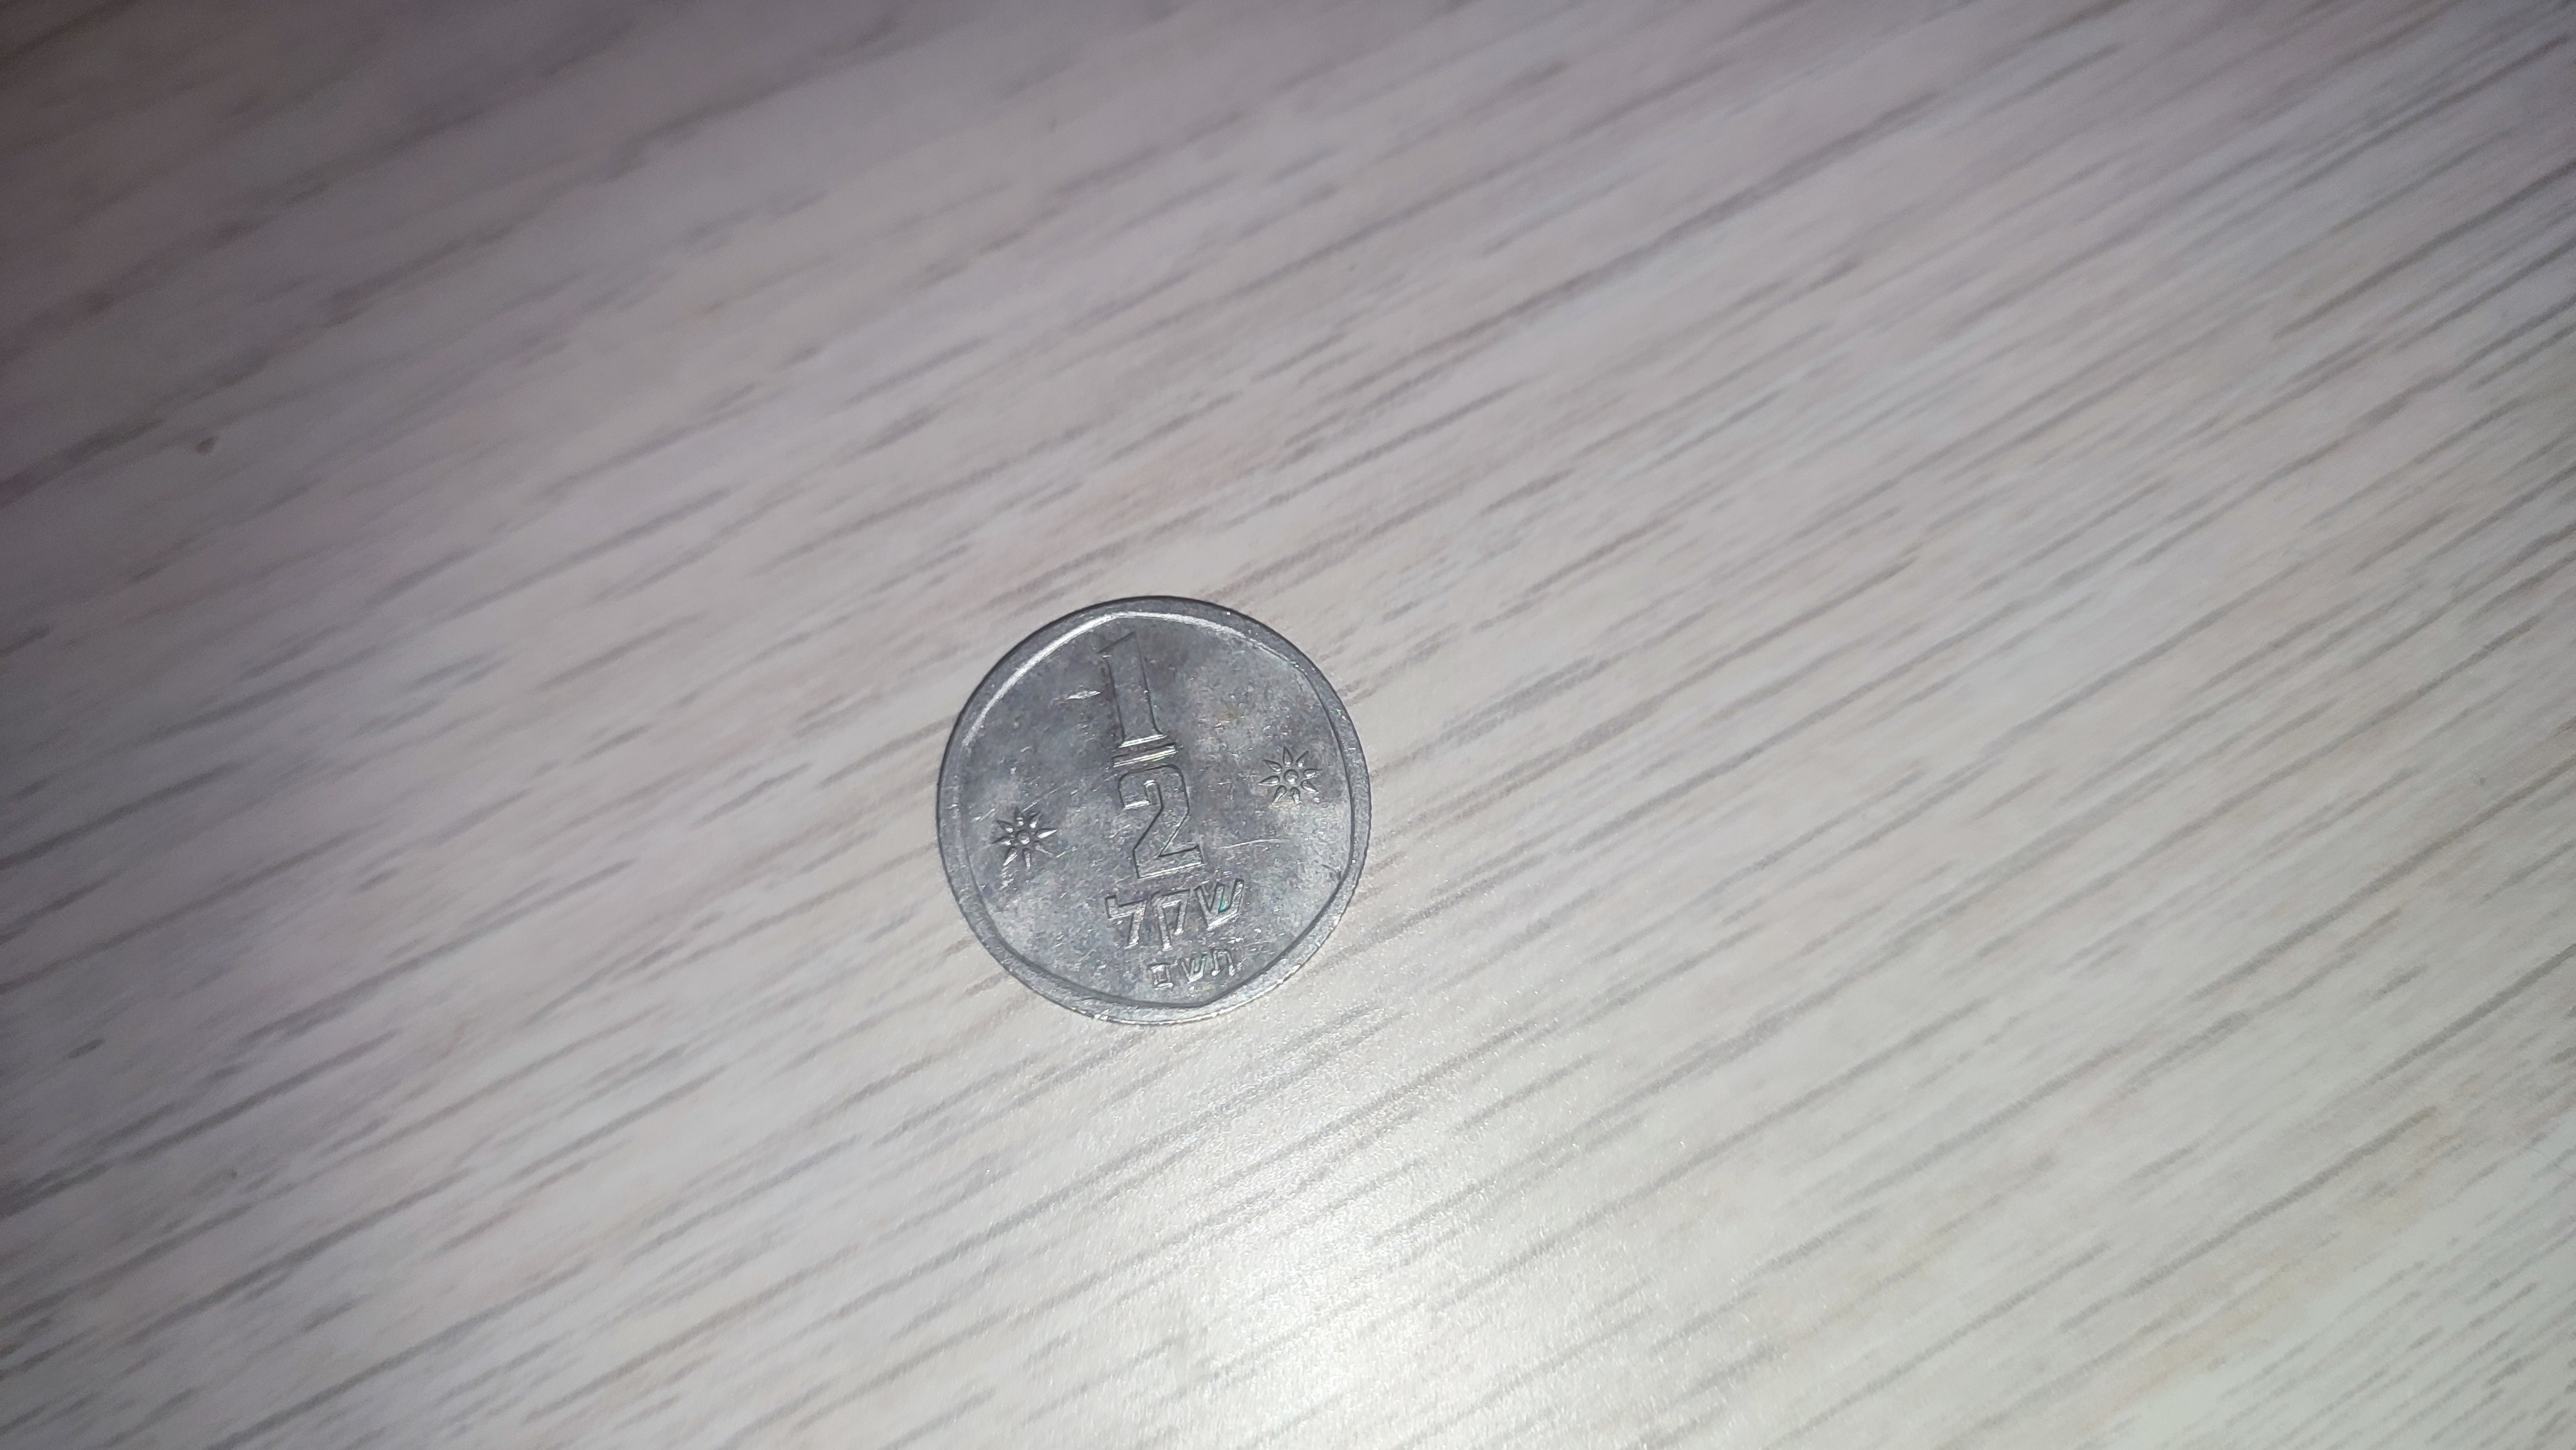1/2 old sheqel: (925, 585, 1385, 1045)
